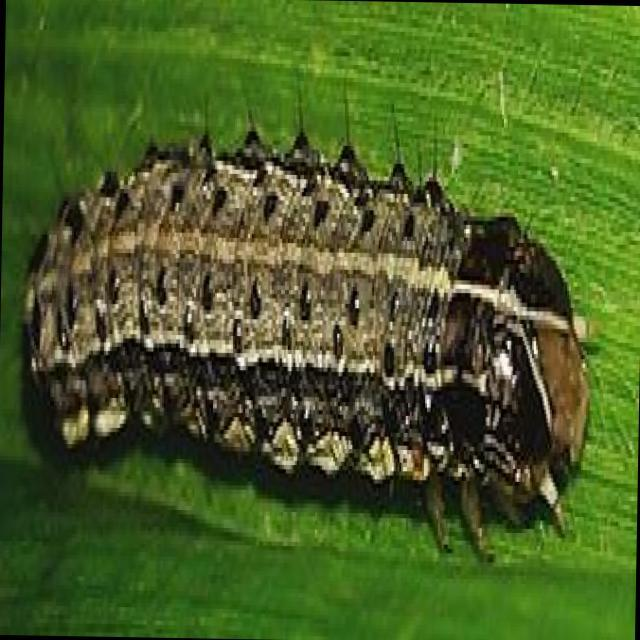Plaga: (5, 55, 606, 577)
